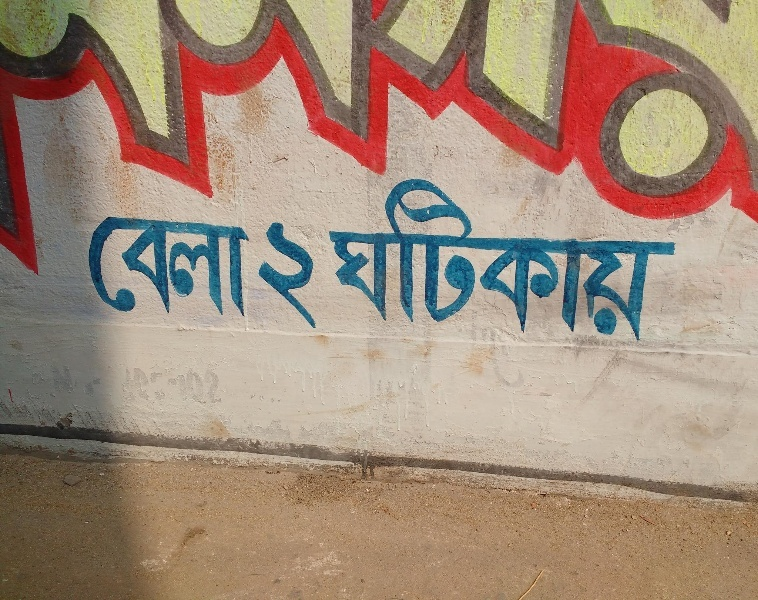text: (337, 157, 352, 391), (353, 157, 368, 391), (369, 157, 384, 391), (385, 157, 400, 391), (401, 157, 416, 391), (417, 157, 432, 391), (433, 157, 448, 391), (449, 157, 464, 391), (465, 157, 480, 391), (481, 157, 496, 391), (497, 157, 512, 391), (513, 157, 528, 391), (529, 157, 544, 391), (545, 157, 560, 391), (561, 157, 576, 391), (577, 157, 592, 391), (593, 157, 608, 391), (609, 157, 624, 391), (625, 157, 640, 391), (641, 157, 656, 391), (657, 157, 672, 391), (17, 2, 32, 209), (33, 2, 48, 209), (49, 2, 64, 209), (65, 2, 80, 209), (81, 2, 96, 209), (97, 2, 112, 209), (113, 2, 128, 209), (129, 2, 144, 209), (145, 2, 160, 209), (161, 2, 176, 209), (177, 2, 192, 209), (193, 2, 208, 209), (209, 2, 224, 209), (225, 2, 240, 209), (241, 2, 256, 209), (257, 2, 272, 209), (273, 2, 288, 209), (289, 2, 304, 209), (305, 2, 320, 209), (321, 2, 336, 209), (337, 2, 352, 209), (353, 2, 368, 209), (369, 2, 384, 209), (385, 2, 400, 209), (401, 2, 416, 209), (417, 2, 432, 209), (433, 2, 448, 209), (449, 2, 464, 209), (465, 2, 480, 209), (481, 2, 496, 209), (497, 2, 512, 209), (513, 2, 528, 209), (529, 2, 544, 209), (545, 2, 560, 209), (561, 2, 576, 209), (577, 2, 592, 209), (593, 2, 608, 209), (609, 2, 624, 209), (625, 2, 640, 209), (641, 2, 656, 209), (657, 2, 672, 209), (673, 2, 688, 209), (689, 2, 704, 209), (705, 2, 720, 209), (721, 2, 736, 209), (673, 157, 686, 391), (737, 2, 751, 209), (325, 157, 336, 391), (6, 2, 16, 209), (273, 220, 288, 342), (289, 220, 304, 342), (305, 220, 320, 342), (17, 204, 32, 316), (33, 204, 48, 316), (113, 213, 128, 324), (129, 213, 144, 324), (145, 213, 160, 324), (161, 213, 176, 324), (177, 213, 192, 324), (193, 213, 208, 324), (209, 213, 224, 324), (225, 213, 240, 324), (3, 204, 16, 316), (101, 213, 112, 324), (49, 204, 58, 316), (241, 213, 250, 324), (49, 351, 64, 407), (65, 351, 80, 407), (81, 351, 96, 407), (97, 351, 112, 407), (113, 351, 128, 407), (129, 351, 144, 407), (145, 351, 160, 407), (161, 351, 176, 407), (177, 351, 192, 407), (193, 351, 208, 407), (209, 351, 224, 407), (321, 220, 327, 342), (609, 194, 624, 235), (625, 194, 640, 235), (641, 194, 656, 235), (657, 194, 672, 235), (673, 194, 688, 235), (689, 194, 704, 235), (705, 194, 720, 235), (721, 194, 736, 235), (737, 194, 752, 235), (41, 351, 48, 407), (225, 351, 229, 407), (753, 194, 758, 235), (271, 220, 272, 342), (607, 194, 608, 235)
